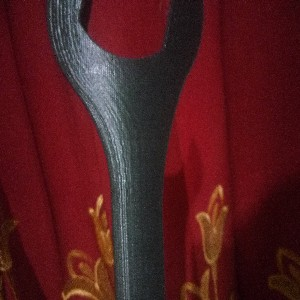spanner: (46, 1, 206, 300)
